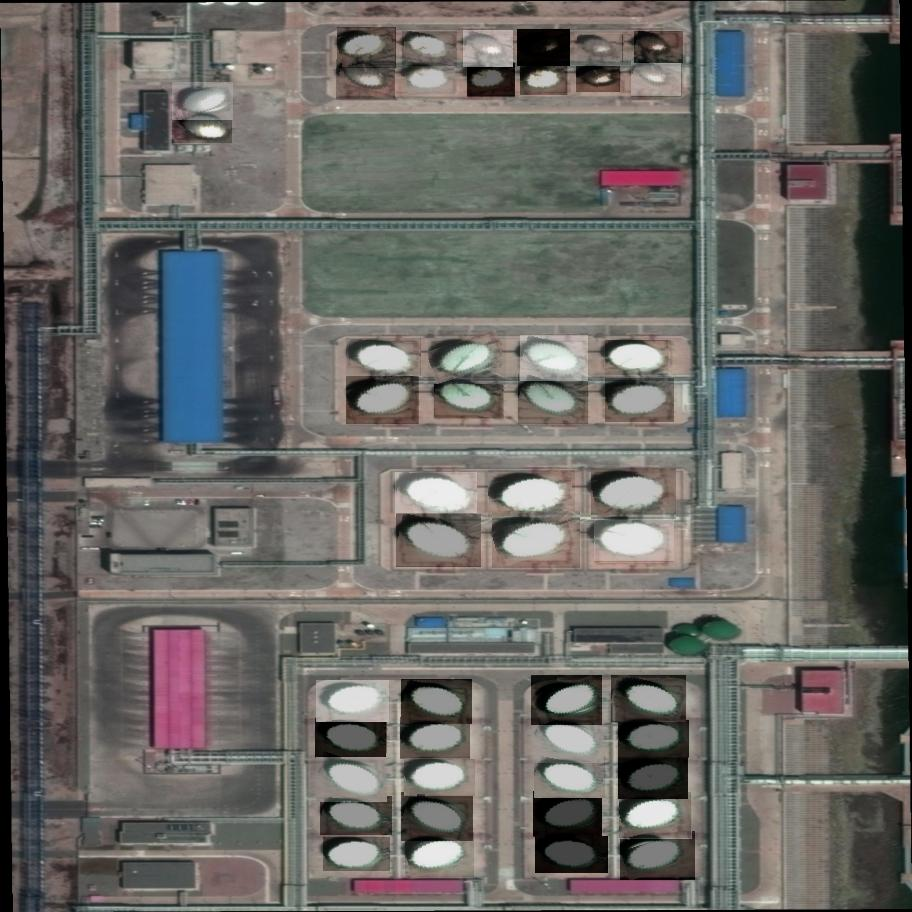storage-tank: (493, 512, 583, 570), (396, 515, 482, 568), (488, 470, 577, 521), (428, 330, 508, 385), (591, 469, 676, 520), (346, 372, 421, 425), (620, 831, 696, 882), (395, 472, 478, 518), (612, 676, 688, 725), (518, 374, 590, 425), (531, 675, 603, 726), (619, 792, 693, 840), (401, 792, 473, 841), (316, 753, 388, 802), (593, 520, 675, 563), (533, 716, 605, 764), (534, 791, 604, 838), (401, 680, 473, 725), (406, 832, 476, 878), (605, 378, 676, 423), (435, 376, 506, 421), (618, 755, 689, 800), (520, 335, 589, 381), (316, 681, 389, 724), (535, 756, 607, 799), (401, 717, 472, 759), (320, 796, 393, 836), (316, 719, 389, 759), (346, 339, 421, 377), (536, 836, 609, 874), (618, 720, 690, 758), (404, 760, 476, 797), (338, 27, 397, 69), (336, 60, 396, 101), (172, 82, 234, 121), (323, 837, 391, 872), (605, 341, 669, 376), (517, 29, 570, 67), (631, 59, 682, 98), (172, 110, 232, 143), (402, 32, 457, 68), (463, 30, 513, 67), (405, 64, 457, 97), (467, 63, 516, 97), (634, 32, 684, 65), (521, 64, 570, 96), (577, 34, 624, 63), (576, 66, 621, 93)
